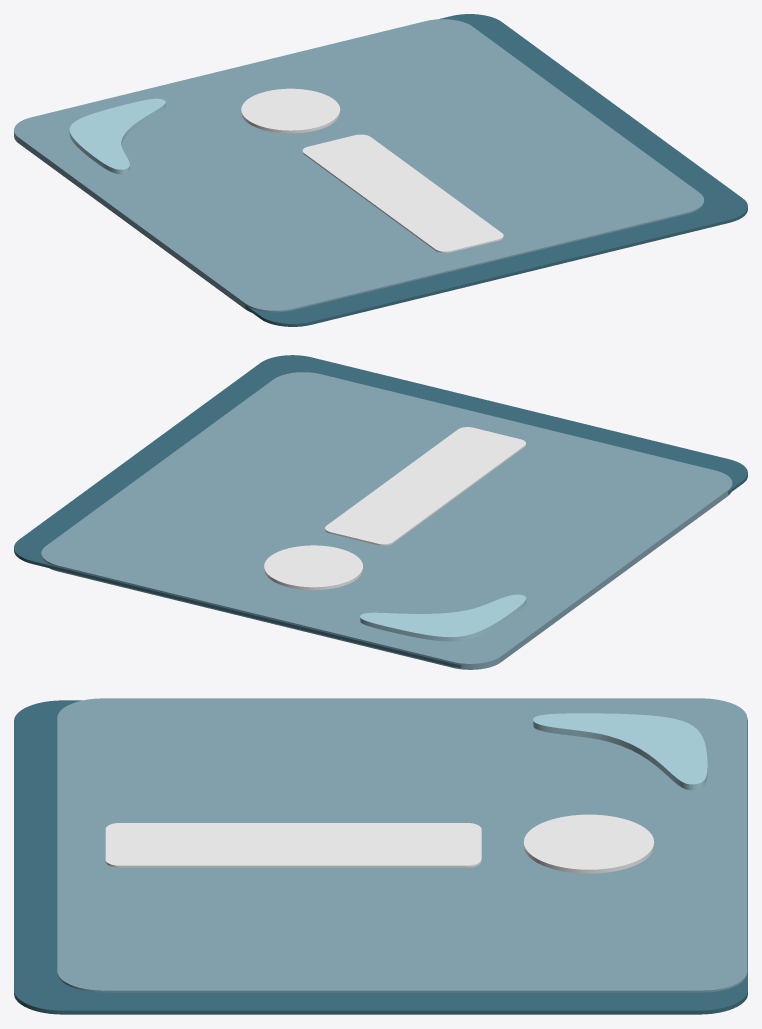
File: emoji_u2139.glb
3 views of the same model, one above another, from view 1: azimuth 30°, elevation 25°; view 2: azimuth 150°, elevation 25°; view 3: azimuth 270°, elevation 25° (orthographic). The views are drawn at different scales.
Visible parts, largest first — view 1: emoji_u2139; view 2: emoji_u2139; view 3: emoji_u2139.
Boxes of the visible parts, x1,y1,x2,y2 form: emoji_u2139: (14, 14, 747, 326); emoji_u2139: (14, 355, 747, 669); emoji_u2139: (14, 698, 747, 1014).
Bounding box in the file's own units: 0.0339 × 0.001 × 0.0339.
